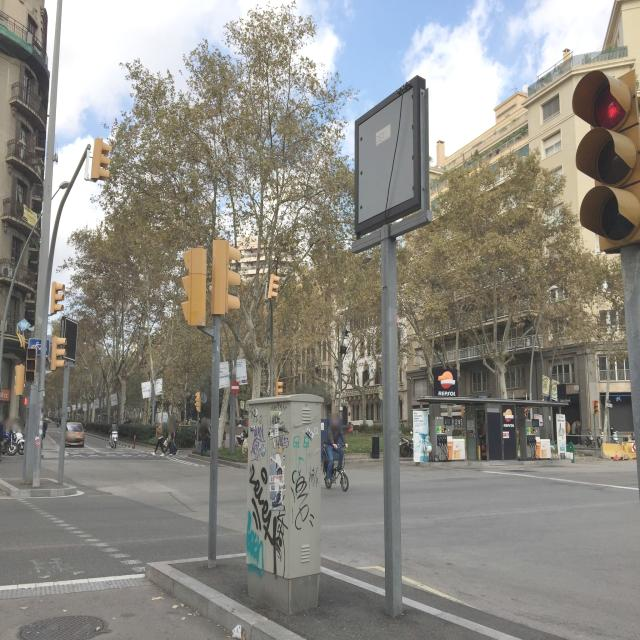bike: (322, 443, 350, 491), (0, 427, 24, 456), (109, 432, 121, 451)
car: (64, 422, 85, 447)
